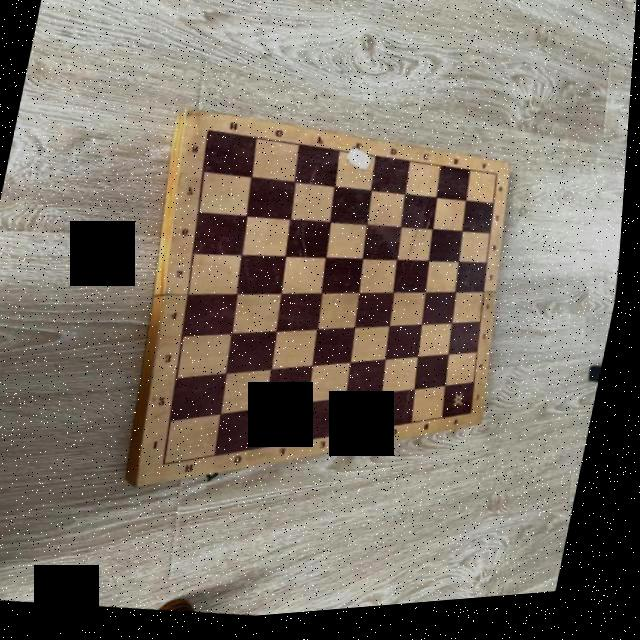chess-table-corners: (164, 460, 178, 472), (206, 128, 217, 138), (496, 178, 504, 185), (475, 418, 481, 423)
